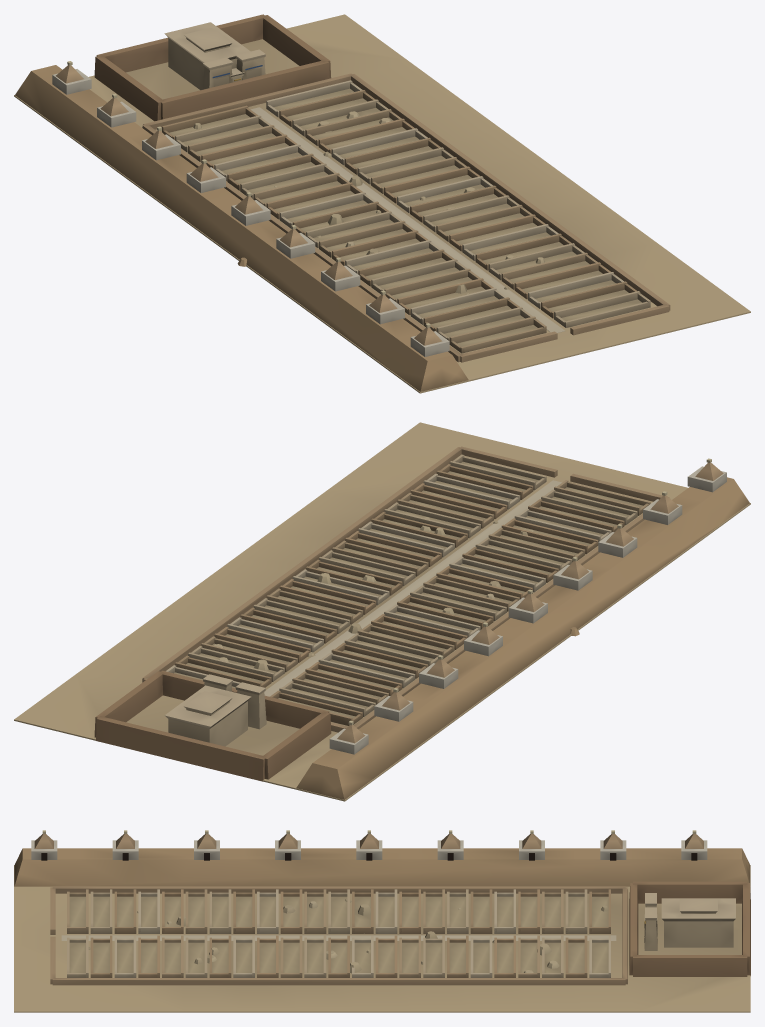
File: deir-el-medina-hathor.glb
3 views of the same model, one above another, from view 1: azimuth 30°, elevation 25°; view 2: azimuth 150°, elevation 25°; view 3: azimuth 270°, elevation 25° (orthographic). The views are drawn at different scales.
Visible parts, largest first — view 1: p0_slope, p2_houses, p1_temple, p3_tombs; view 2: p0_slope, p2_houses, p1_temple, p3_tombs; view 3: p0_slope, p2_houses, p1_temple, p3_tombs.
Part boxes in pixels (x1,y1,x2,y2): p0_slope: (14, 14, 750, 393); p2_houses: (162, 80, 650, 353); p1_temple: (94, 14, 670, 362); p3_tombs: (52, 61, 449, 356); p0_slope: (14, 422, 750, 801); p2_houses: (166, 454, 650, 725); p1_temple: (94, 446, 669, 781); p3_tombs: (329, 458, 726, 754); p0_slope: (14, 848, 750, 1012); p2_houses: (67, 889, 610, 977); p1_temple: (50, 881, 750, 985); p3_tombs: (31, 830, 707, 860).
Bounding box in the file's own units: 81.18 × 11.8 × 170.
